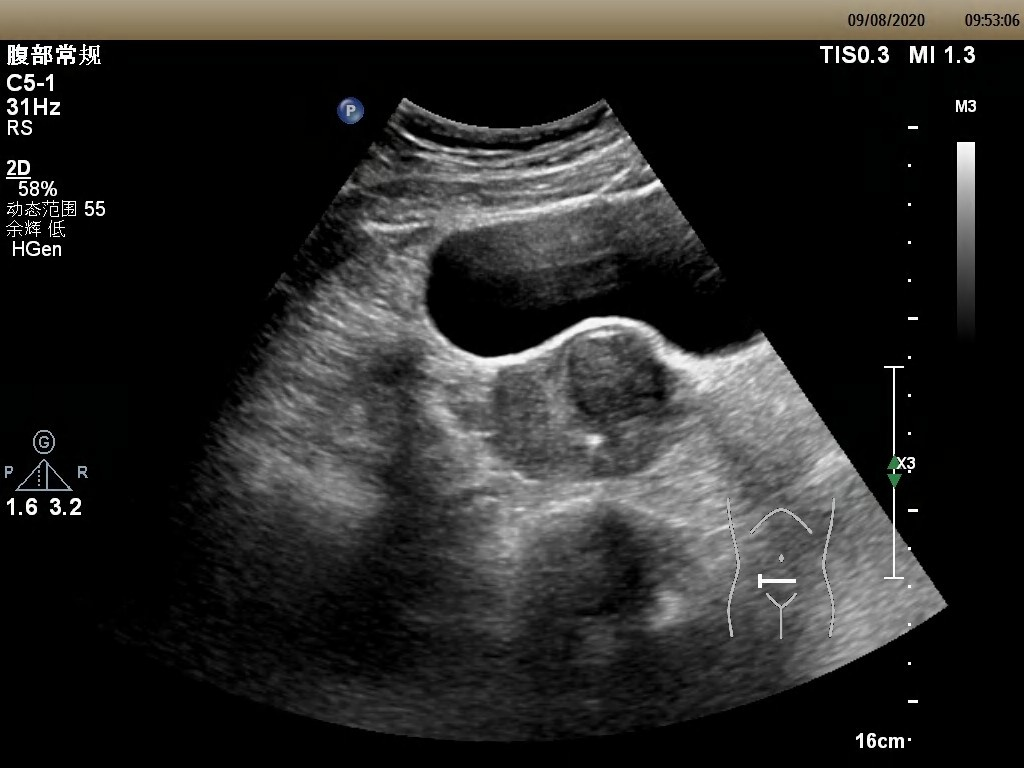肌瘤: (566, 327, 671, 421)
